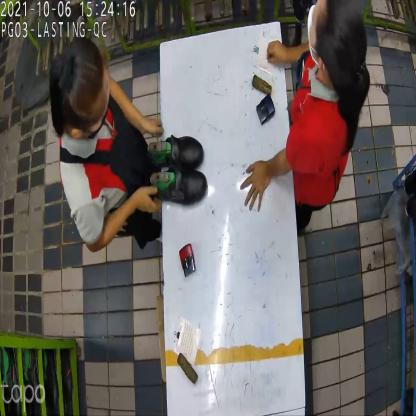shoes: (144, 127, 207, 209)
stamp: (254, 93, 274, 128), (180, 247, 197, 278)
